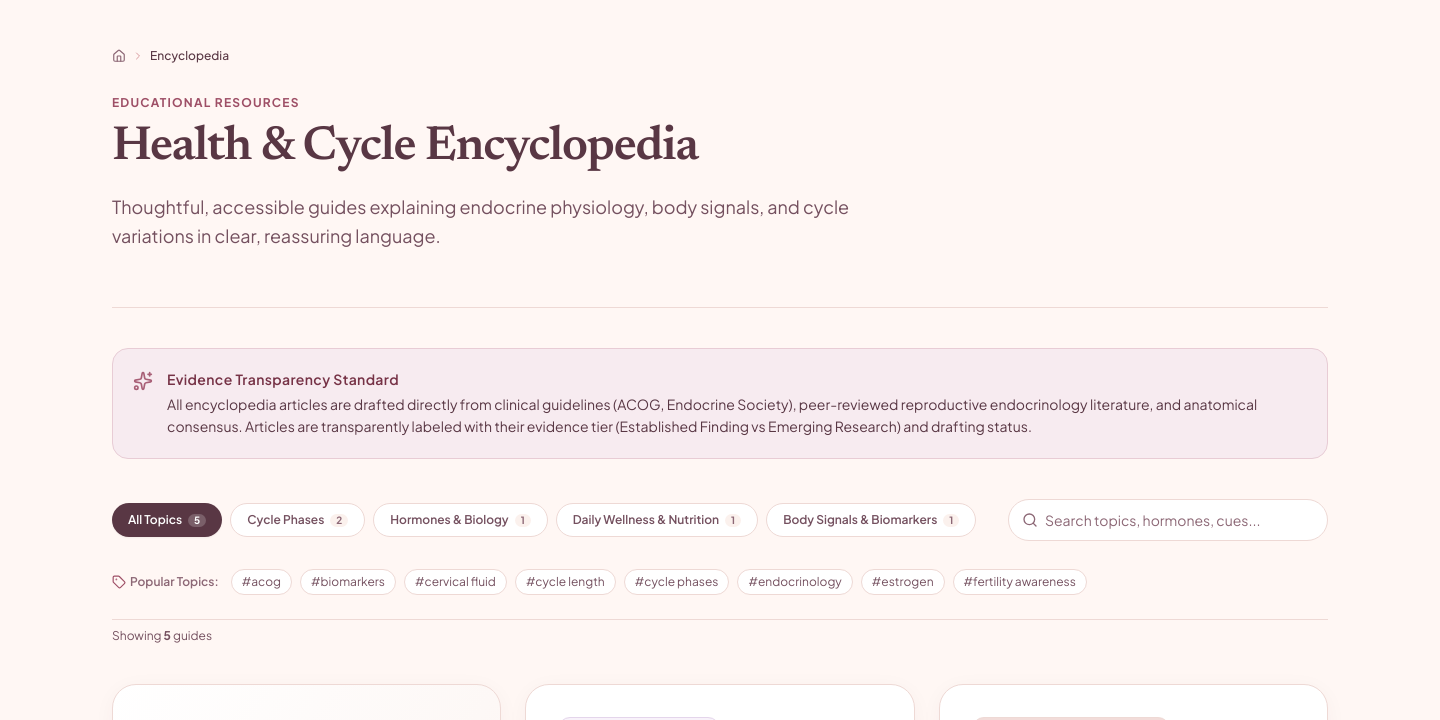
Test: Encyclopedia Page Discovery & Functionality › displays empty state when search finds no results and allows reset
Type "nonexistentquery123" into the field with placeholder "Search topics, hormones, cues..." at (1168, 520), box top-left (1008, 499), bottom-right (1328, 541)
(page scrolled)
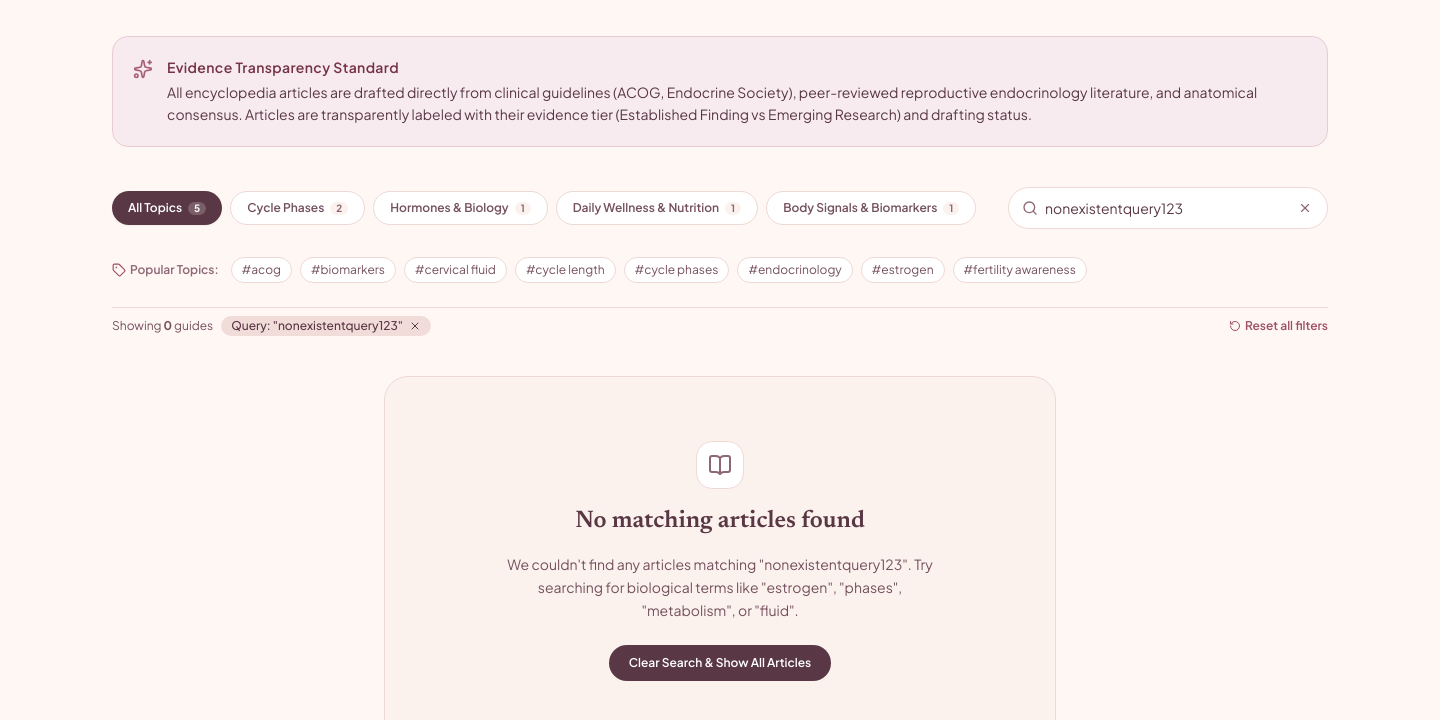
Result: the heading "No matching articles found" is shown at top-left (575, 509), bottom-right (865, 533)
Result: the text "Try searching for biological terms like" is shown at top-left (507, 555), bottom-right (933, 619)
Click the button "Clear Search & Show All Articles" at (720, 663), box top-left (609, 645), bottom-right (831, 681)
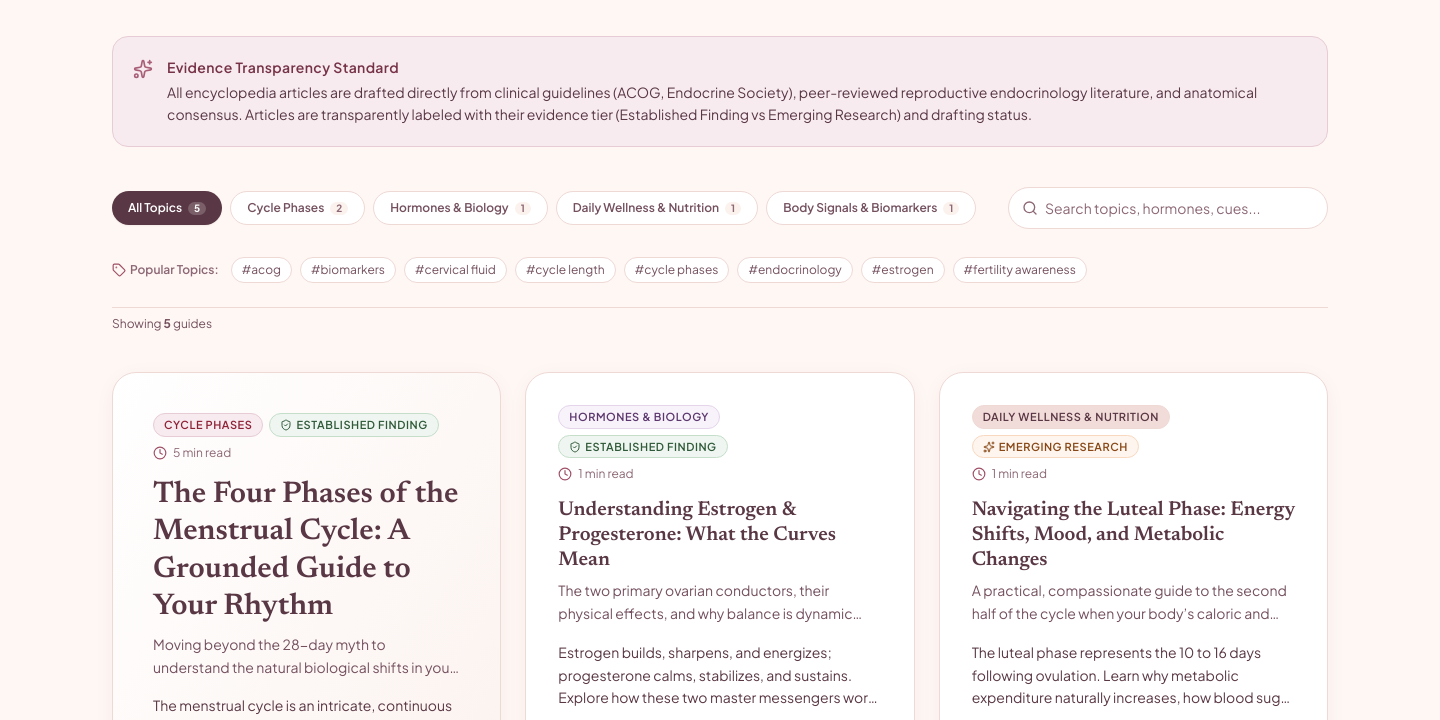
Result: the link "The Four Phases of the Menstrual Cycle" is shown at top-left (153, 480), bottom-right (458, 622)
